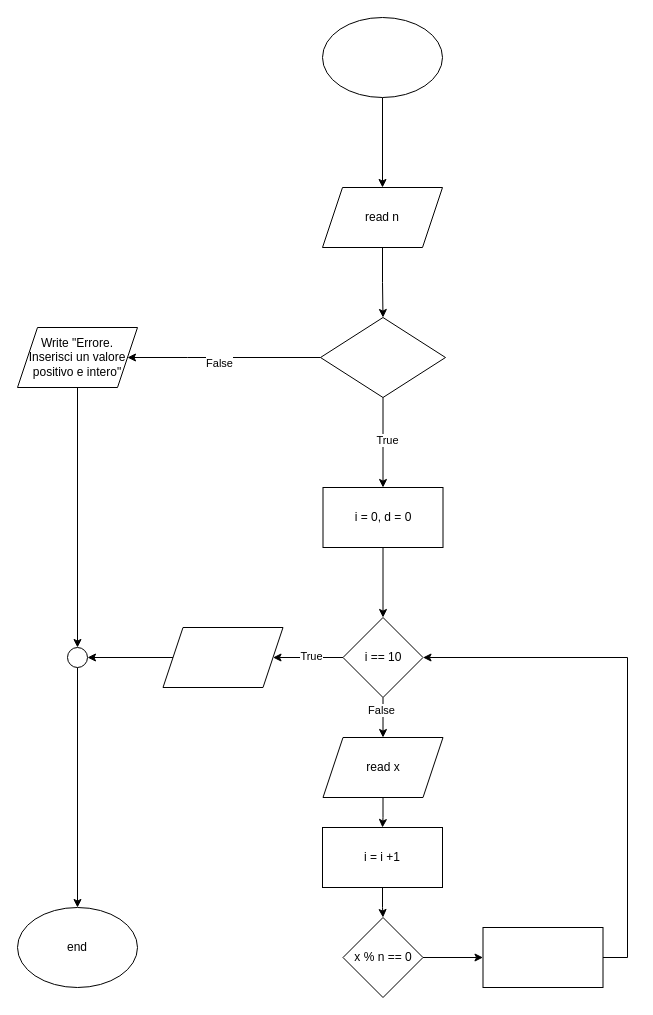
Some shapes in this 653 by 1015 pixel diagram are drawn without their labels. Each missing label, with the centre of its shape:
"d = d + 1" belongs at (x=542, y=957).
"n >= 0 AND n % 1 == 0" belongs at (x=383, y=357).
"start" belongs at (x=382, y=57).
"Write d" belongs at (x=222, y=657).
